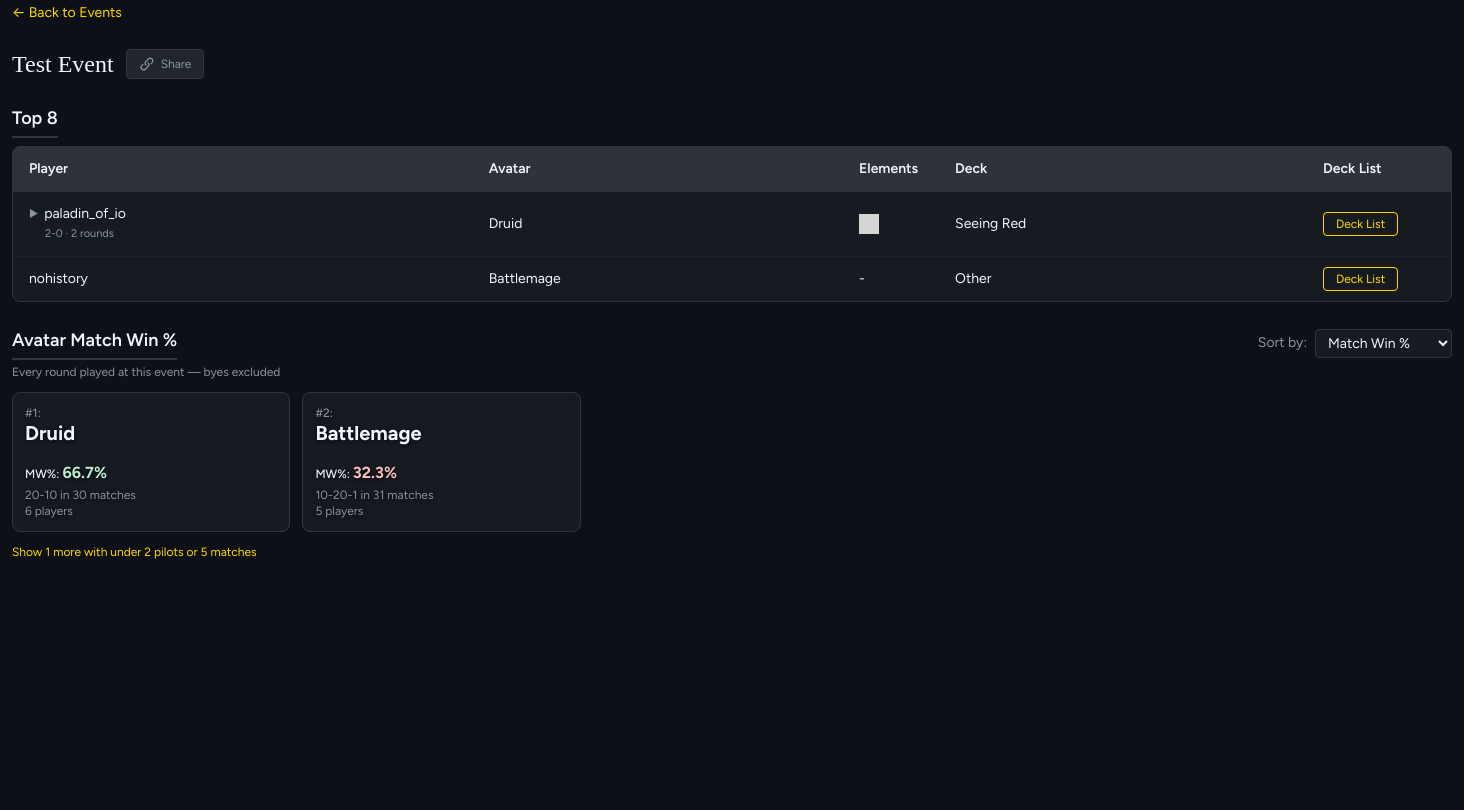
EventDetail avatar win rates › keeps a single pilot out of the ranking until asked
Expected: the heading "Avatar Match Win %" is shown, [12,326,177,360]
Expected: the text "Geomancer" is not shown
Step 1. Click the button "Show 1 more with under 2 pilots or 5 matches" → click(134, 552), box [12,544,257,560]
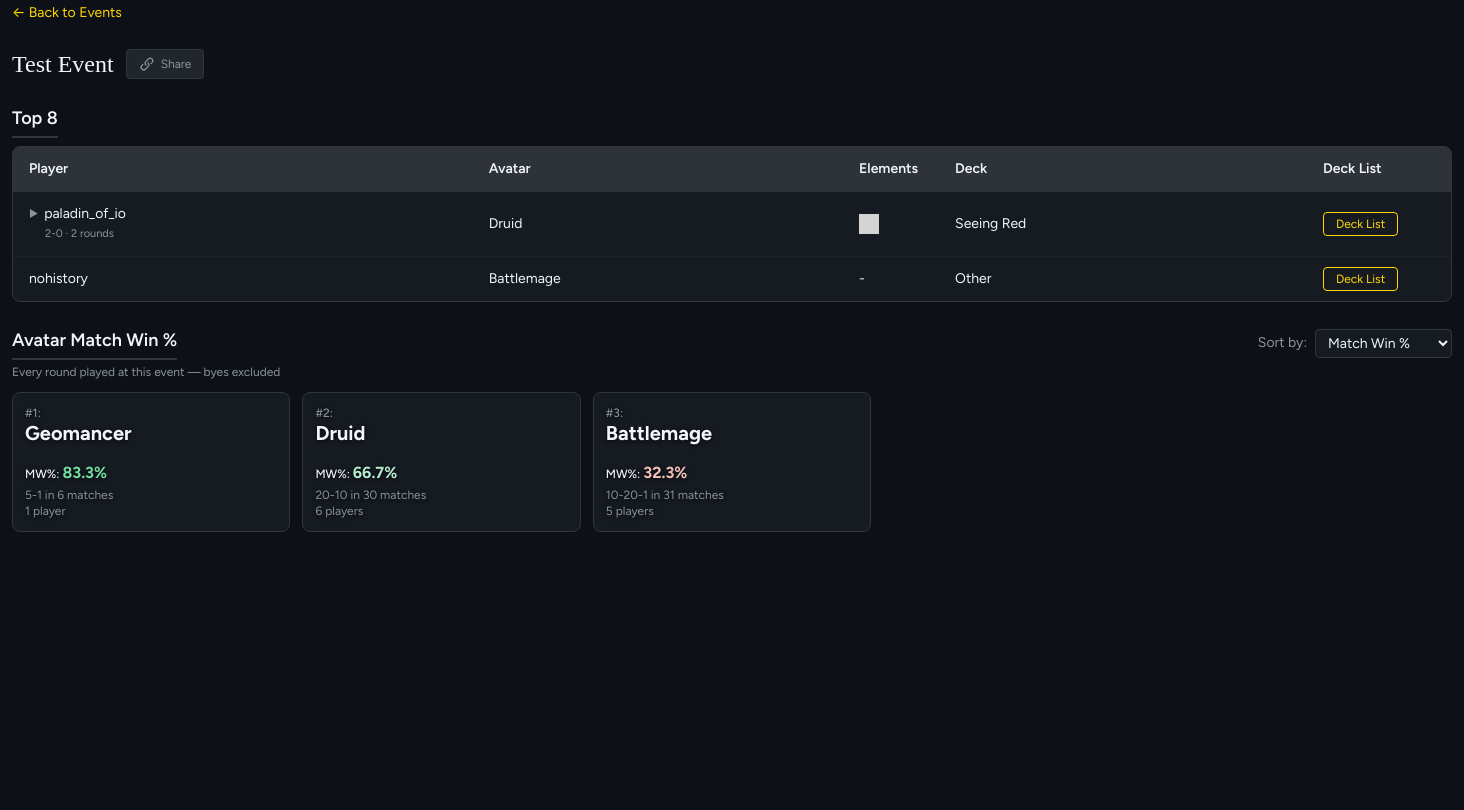
Now the heading "Geomancer" is shown, box [25,421,132,445]
